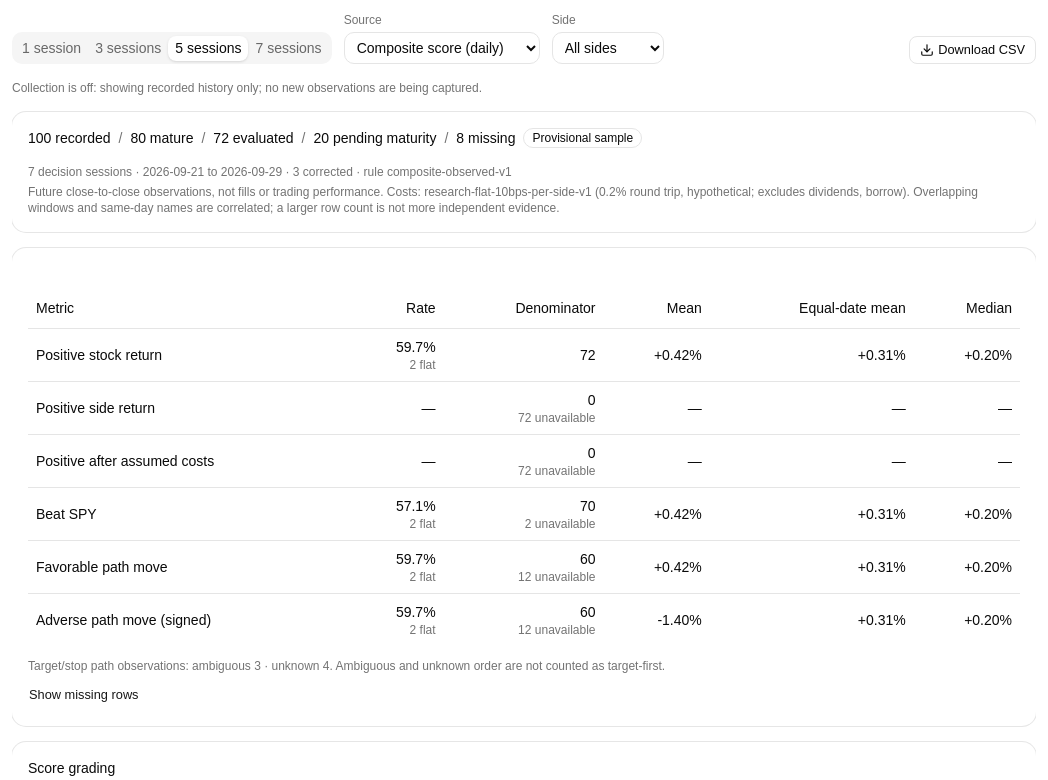
Test: selects_scanner_cohort_and_clears_follow_through_origin
Select "Follow-through (selected)" in the dropdown labelled "Source": (442, 48) [344,32,540,64]
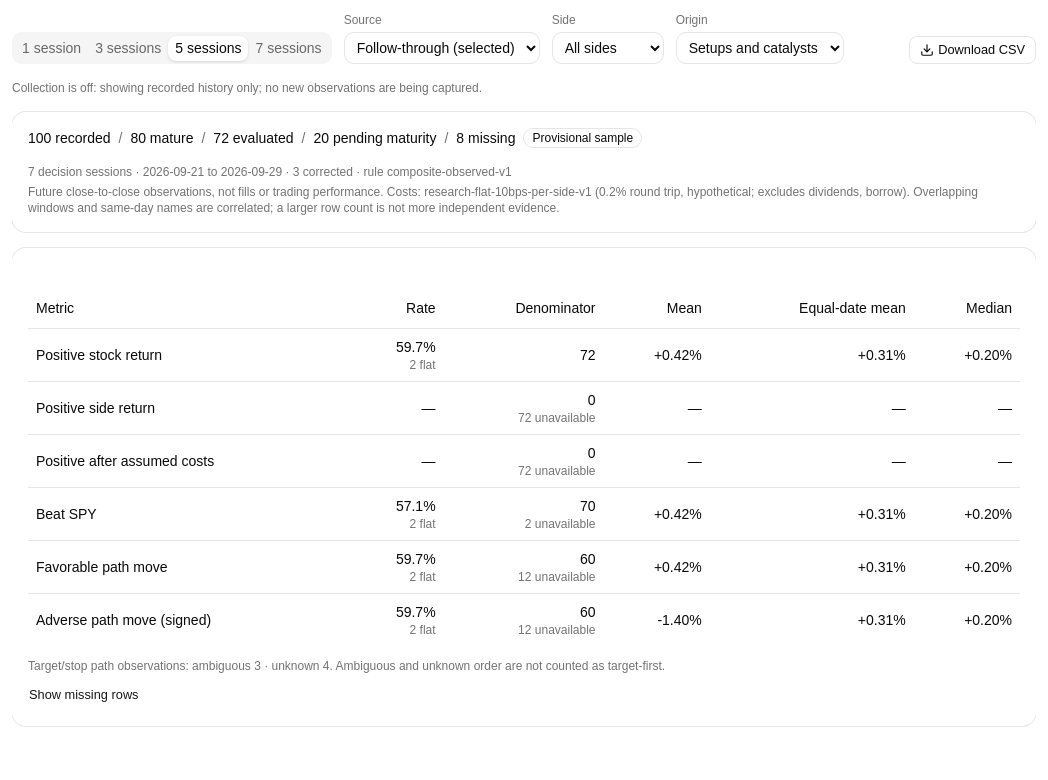
Select "From a saved setup" in the dropdown labelled "Origin": (760, 48) [676,32,844,64]
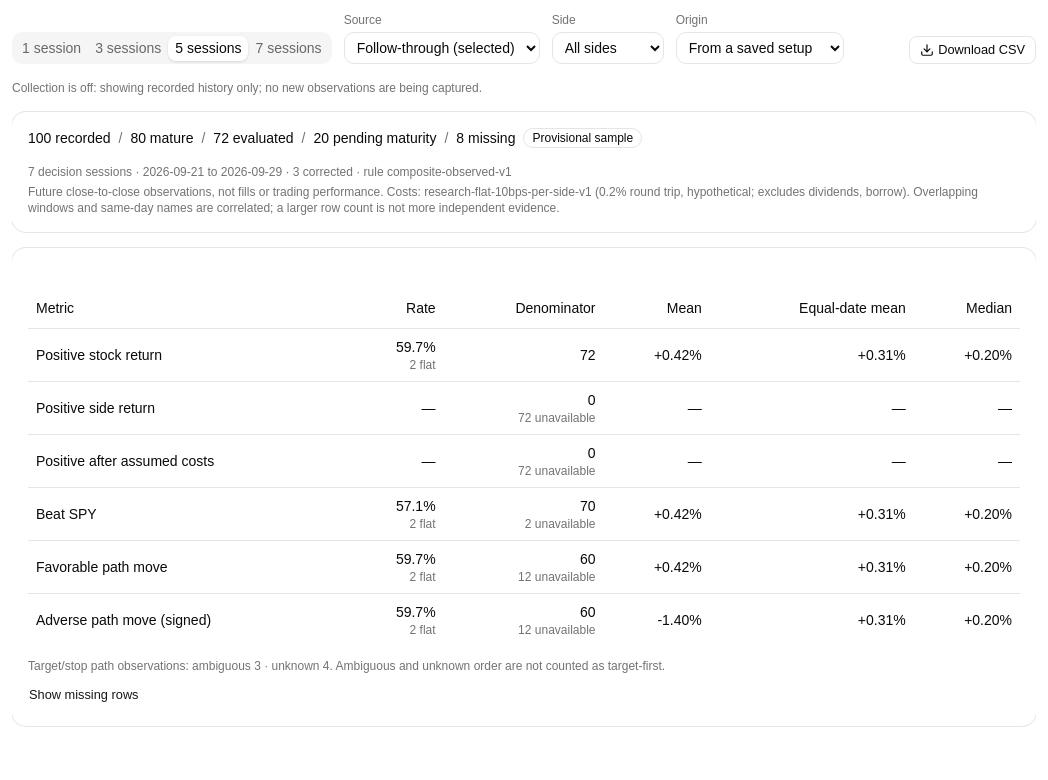
Select "Short Squeeze Strategy" in the dropdown labelled "Source": (442, 48) [344,32,540,64]
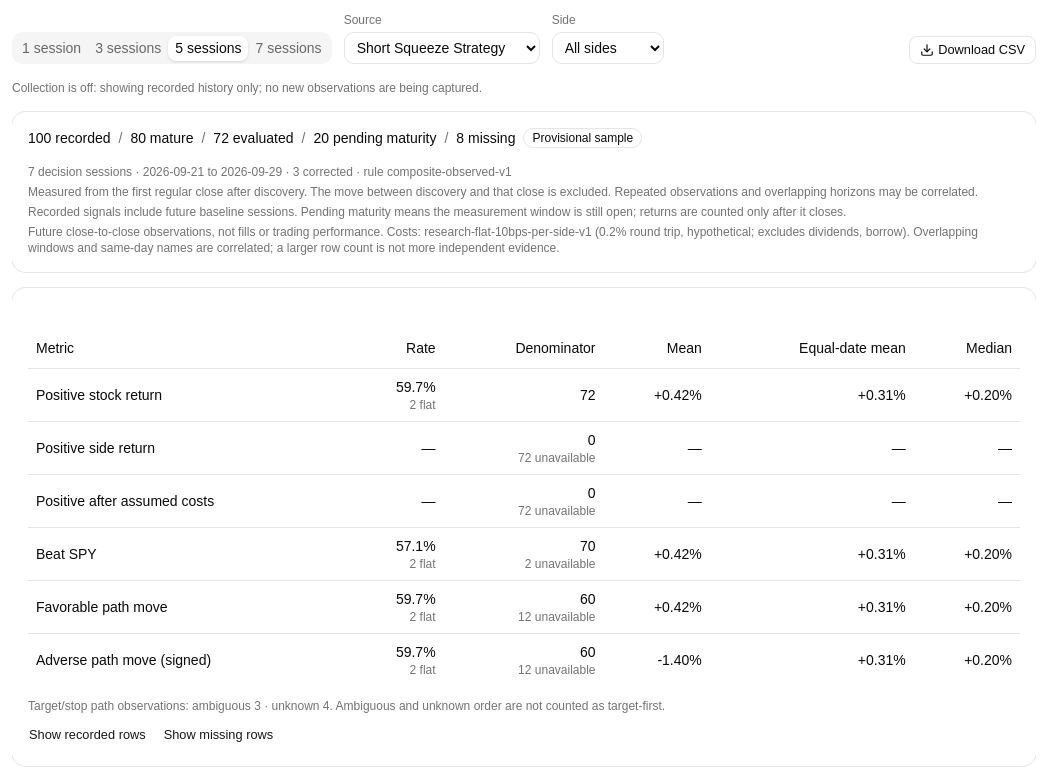
Result: the text labelled "Origin" is gone
